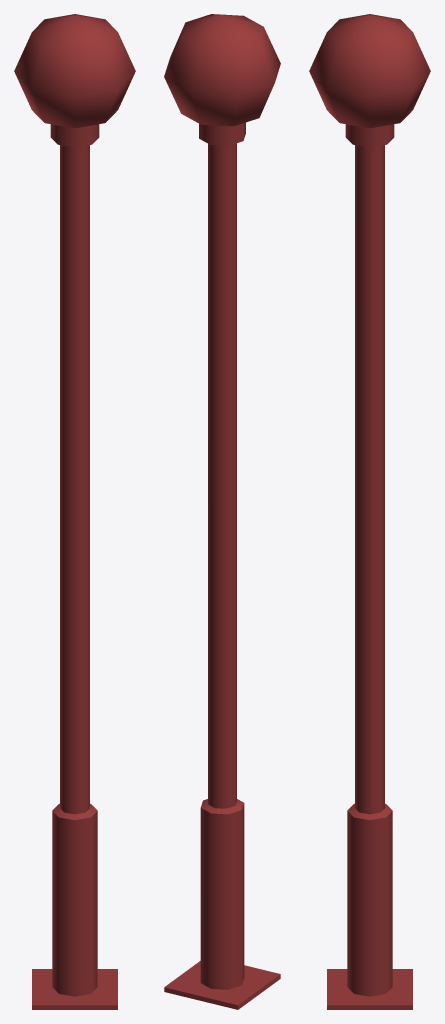
The model's file is Street Lamp.FBX.
3 renders of one model, left to right at view 1: azimuth 90°, elevation 25°; view 2: azimuth 150°, elevation 25°; view 3: azimuth 270°, elevation 25°, orthographic.
Parts seen in each view (by area): view 1: Street Lamp; view 2: Street Lamp; view 3: Street Lamp.
Boxes of the visible parts, bbox=[...] form: Street Lamp: bbox=[14, 14, 135, 1009]; Street Lamp: bbox=[164, 14, 280, 1009]; Street Lamp: bbox=[309, 14, 430, 1009].
Size of the model in its own units: 56.75 by 502 by 56.75.
